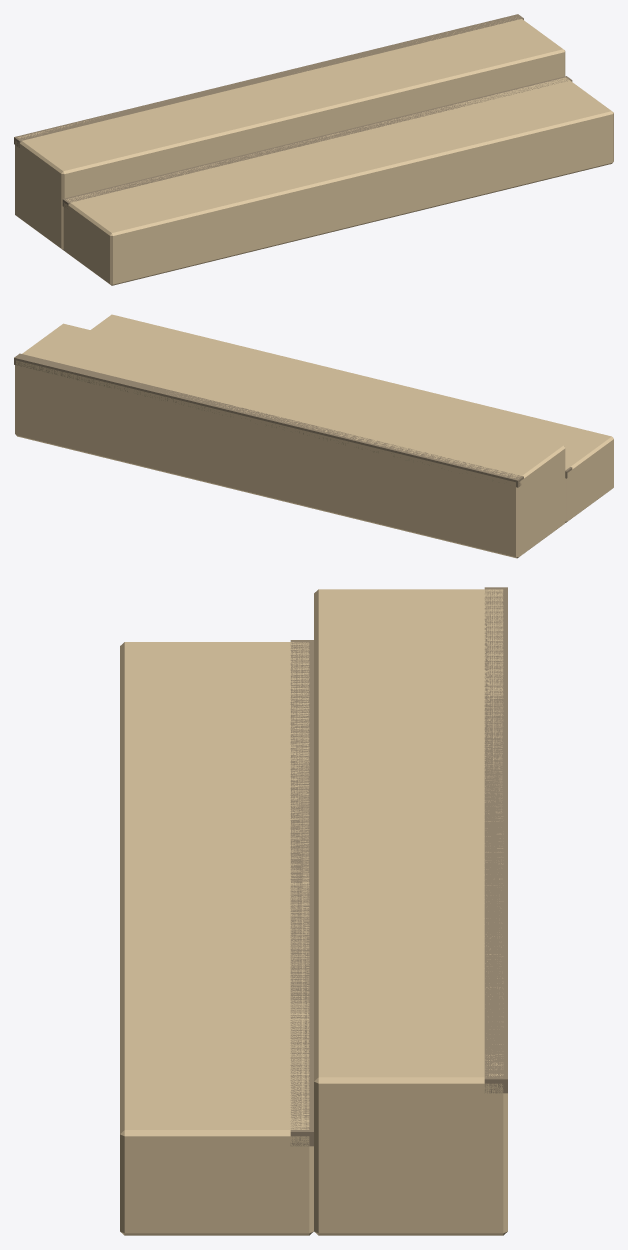
Rendered from steps.glb.
The picture shows the model from 3 angles, top to bottom: view 1: azimuth 30°, elevation 25°; view 2: azimuth 150°, elevation 25°; view 3: azimuth 270°, elevation 25°; orthographic projection. The views are drawn at different scales.
Parts seen in each view (by area): view 1: body; view 2: body; view 3: body.
Boxes of the visible parts, x1,y1,x2,y2 form: body: (14,14,613,285); body: (14,314,613,558); body: (120,587,507,1235).
Size of the model in its own units: 3 by 0.45 by 1.
